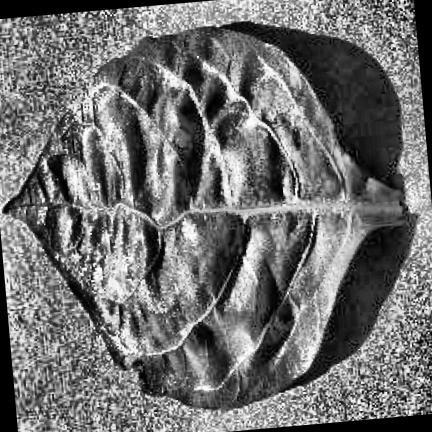leaf: (2, 27, 407, 410)
